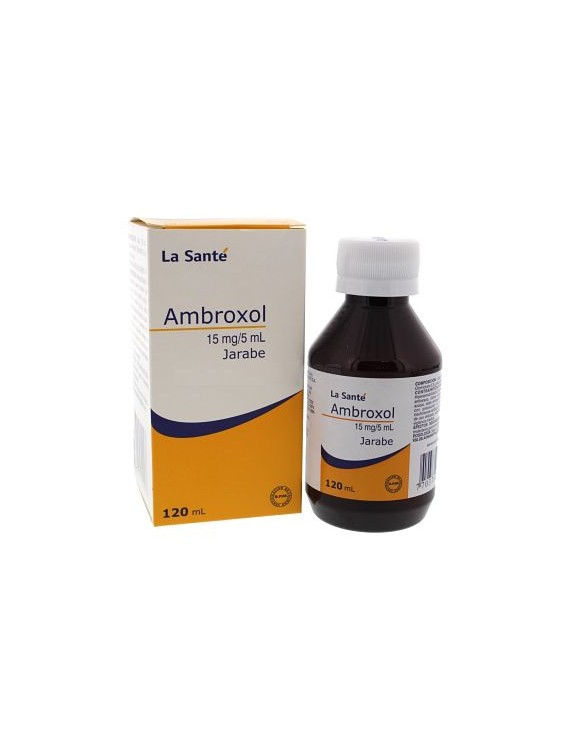LaSante: (152, 227, 301, 528)
